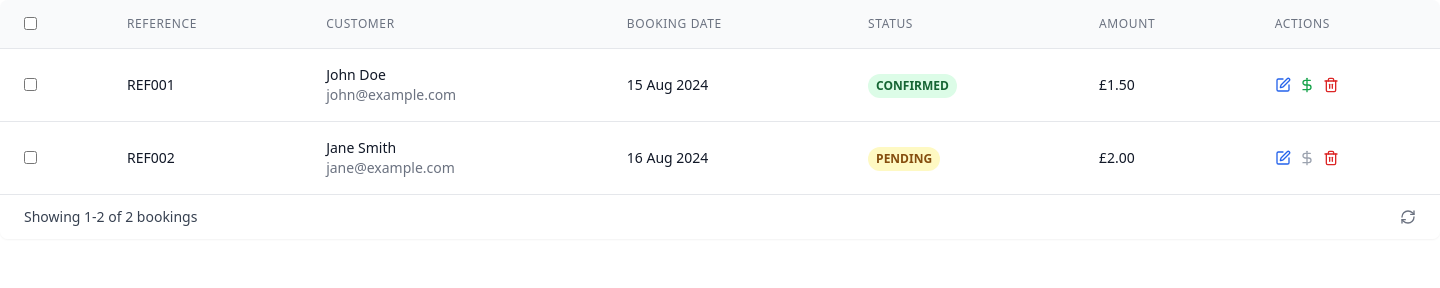
BookingsTable › should show bulk actions when bookings are selected
Click the 2nd checkbox. click: click(30, 84)
box: [24,78,37,91]
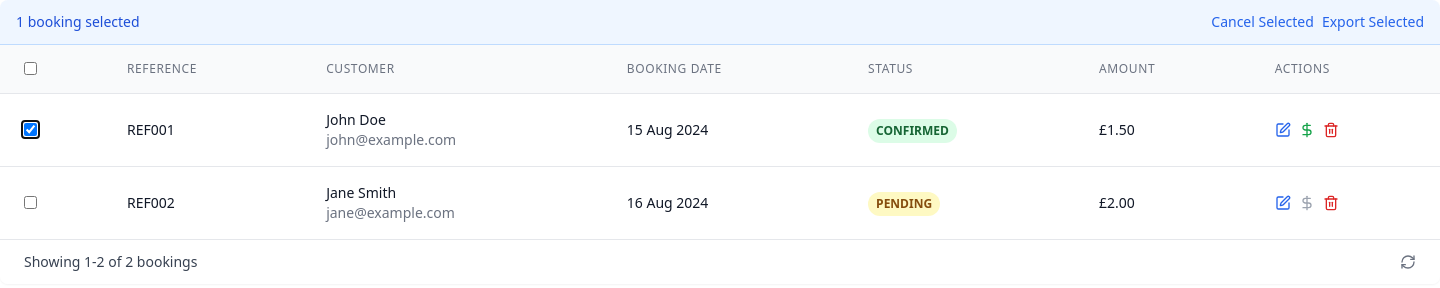
Expected: the text "1 booking selected" is shown, [16,12,140,32]
Expected: the button "Cancel Selected" is shown, [1211,12,1314,32]
Expected: the button "Export Selected" is shown, [1322,12,1424,32]
